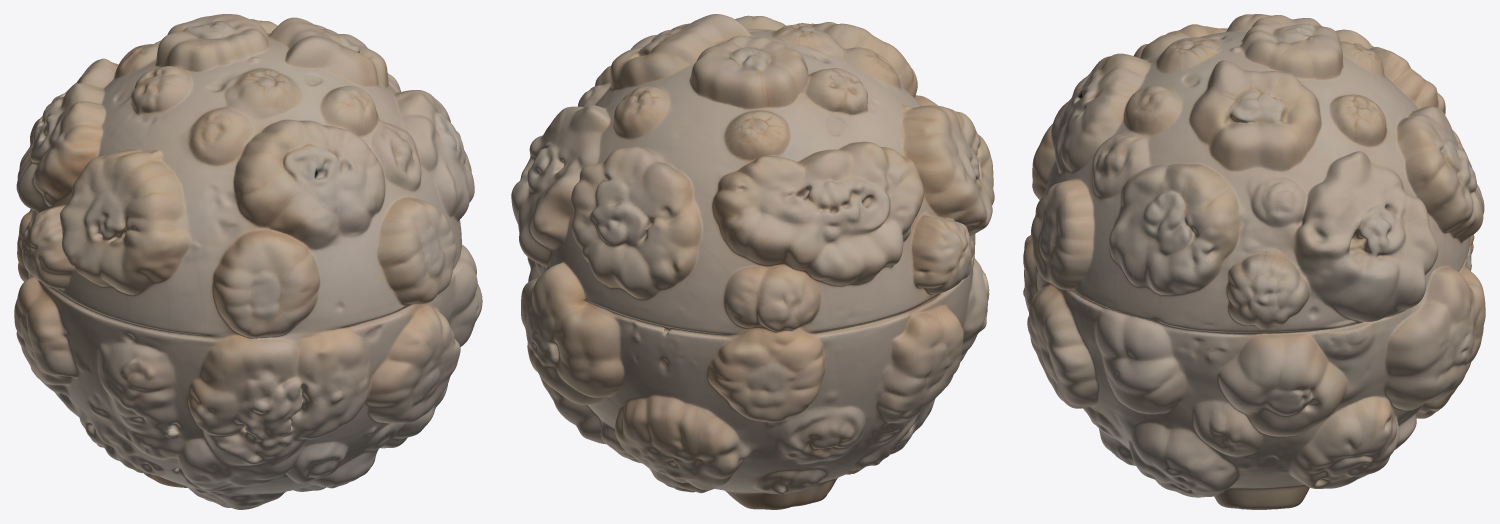
The model's file is detailed_realistic_model_solid_07.glb.
3 renders of one model, left to right at view 1: azimuth 30°, elevation 25°; view 2: azimuth 150°, elevation 25°; view 3: azimuth 270°, elevation 25°, orthographic.
Visible parts, largest first — view 1: tripo_node_d013bed9-1b28-42f9-90b7-d81147027834; view 2: tripo_node_d013bed9-1b28-42f9-90b7-d81147027834; view 3: tripo_node_d013bed9-1b28-42f9-90b7-d81147027834.
Part boxes in pixels (box(x1,y1,x2,y2)): tripo_node_d013bed9-1b28-42f9-90b7-d81147027834: box(14, 14, 482, 509); tripo_node_d013bed9-1b28-42f9-90b7-d81147027834: box(511, 14, 994, 509); tripo_node_d013bed9-1b28-42f9-90b7-d81147027834: box(1023, 14, 1485, 509).
Size of the model in its own units: 0.989 by 1 by 0.9422.
Materials: 1 (1 with a texture image).
